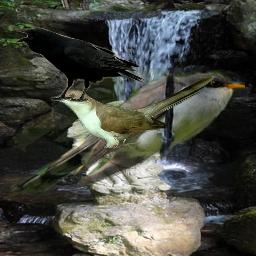Crow: (16, 28, 144, 103)
Cuckoo: (6, 68, 245, 194), (51, 74, 214, 148)
